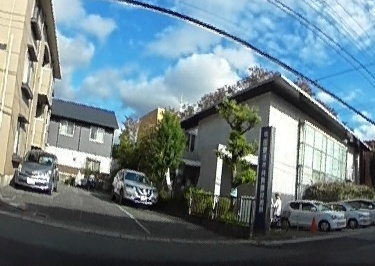person: (271, 189, 283, 226)
